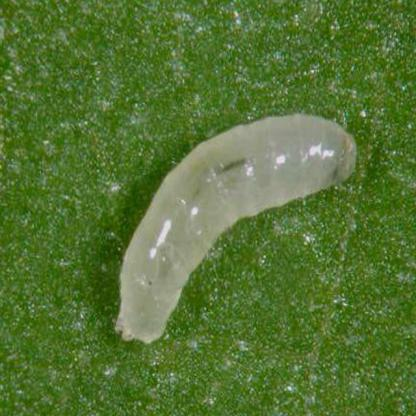whorl-maggot: (112, 106, 360, 349)
